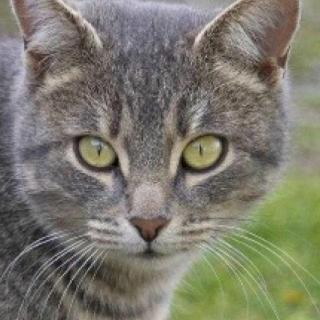cat: (2, 0, 300, 275)
nose: (127, 199, 173, 251)
